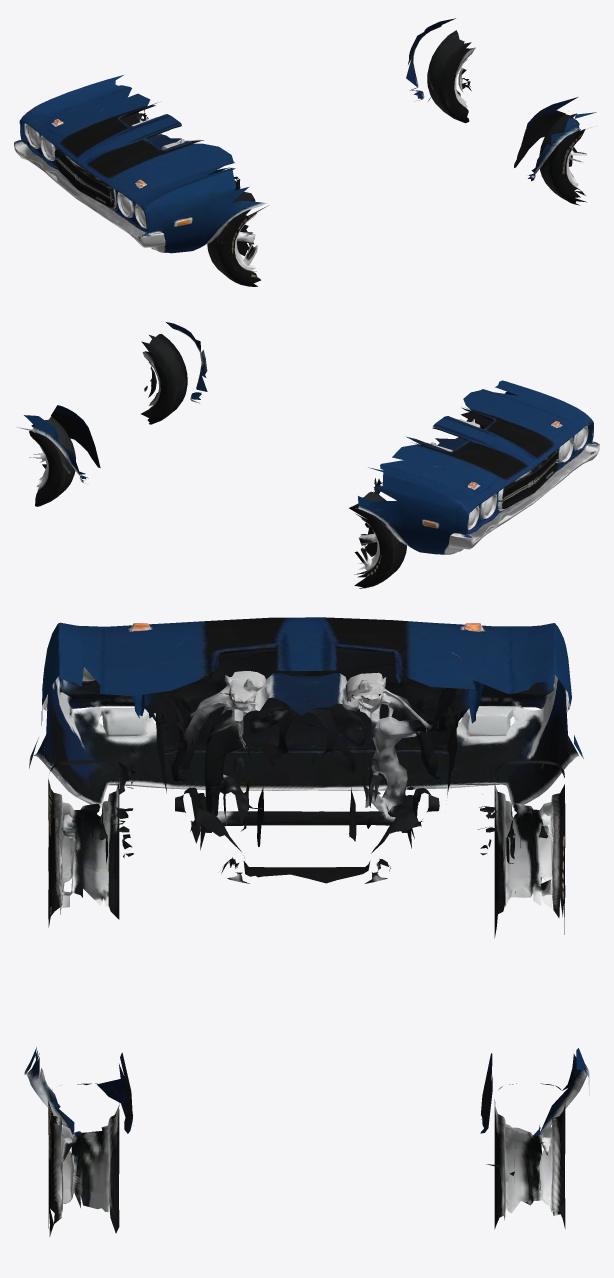
File: car.glb
3 views of the same model, one above another, from view 1: azimuth 30°, elevation 25°; view 2: azimuth 150°, elevation 25°; view 3: azimuth 270°, elevation 25° (orthographic). The views are drawn at different scales.
Visible parts, largest first — view 1: Body, Wheel_FR, Wheel_FL, Wheel_RR; view 2: Body, Wheel_FL, Wheel_FR, Wheel_RL; view 3: Body, Wheel_RR, Wheel_FR, Wheel_RL, Wheel_FL.
Boxes of the visible parts, x1,y1,x2,y2 form: Body: (14, 75, 249, 253); Wheel_FR: (514, 97, 596, 205); Wheel_FL: (406, 18, 475, 123); Wheel_RR: (207, 178, 268, 286); Body: (364, 380, 599, 554); Wheel_FL: (16, 405, 100, 506); Wheel_FR: (141, 322, 207, 424); Wheel_RL: (349, 478, 406, 588); Body: (41, 617, 571, 883); Wheel_RR: (29, 735, 136, 927); Wheel_FR: (24, 1047, 133, 1236); Wheel_RL: (477, 735, 584, 938); Wheel_FL: (480, 1048, 589, 1229).
Size of the model in its own units: 1.48 by 0.3976 by 0.7956.
1 material, 1 textured.
